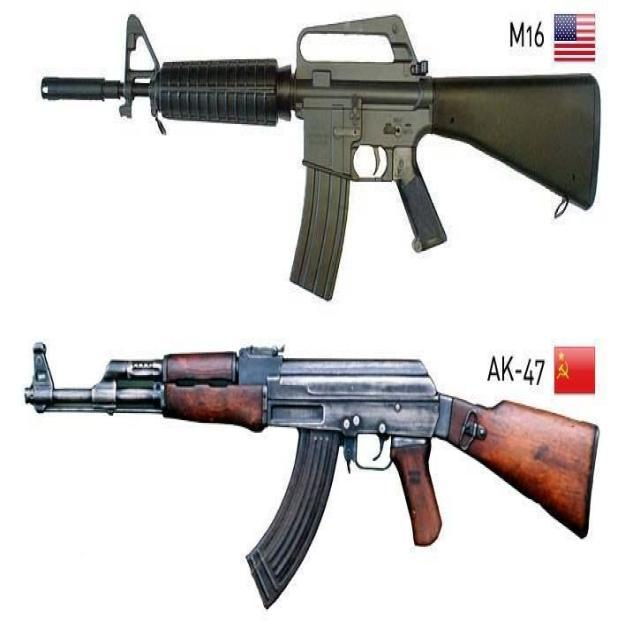Rifle: (38, 12, 603, 304), (22, 334, 601, 610)
